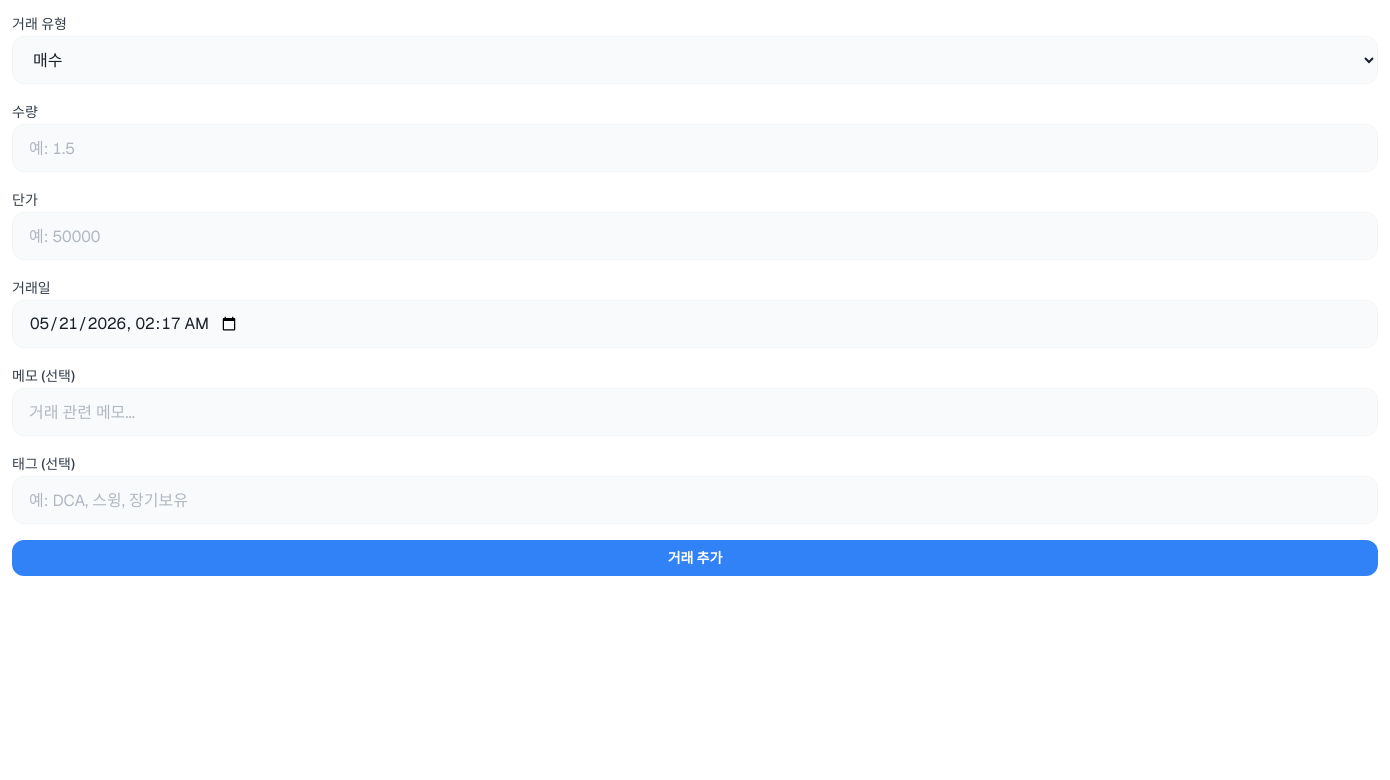
TransactionForm (create 모드 — 기본값) › 음수 또는 0 수량은 유효성 오류가 표시된다
The width and height of the screenshot is (1390, 780).
Type "0" into the field named "거래 수량" at (695, 148), box [12,124,1378,172]
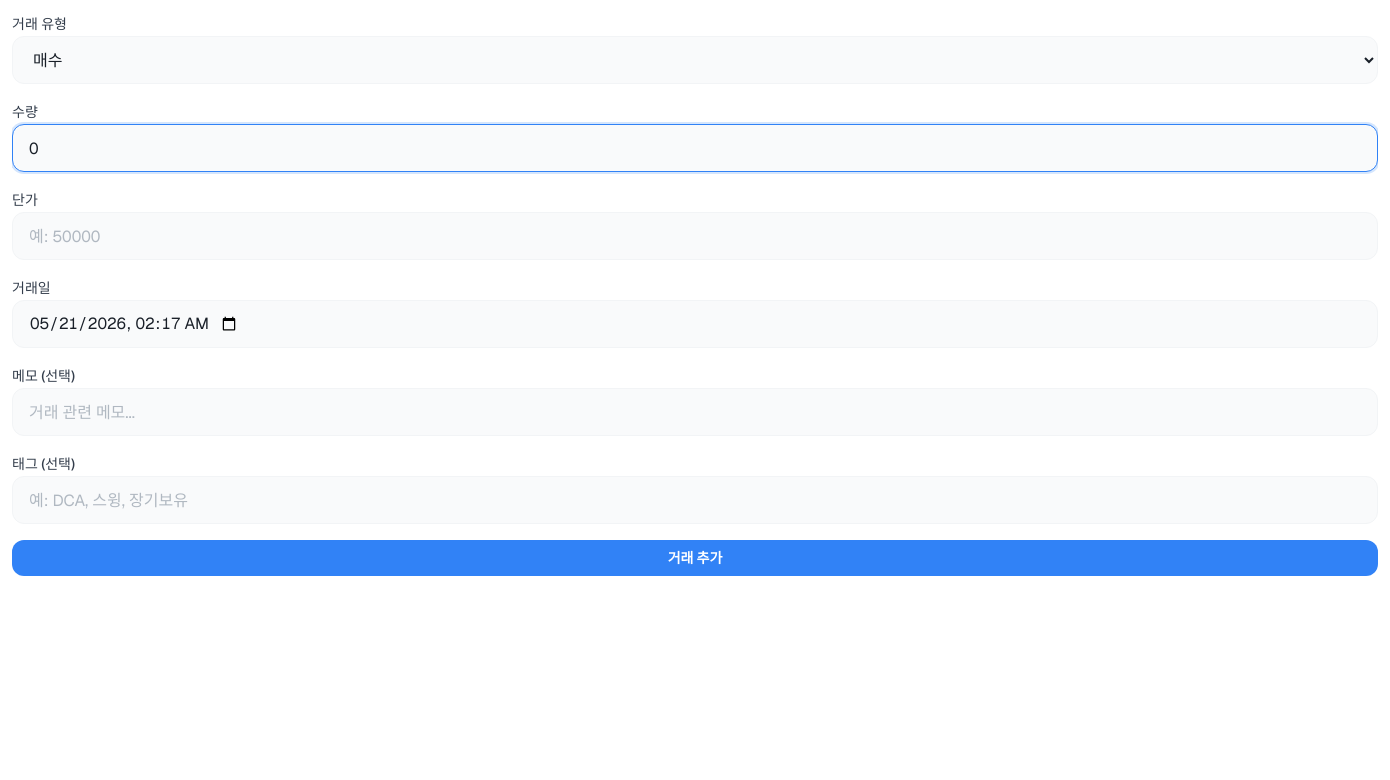
Click the button "거래 추가" at (695, 558), box [12,540,1378,576]
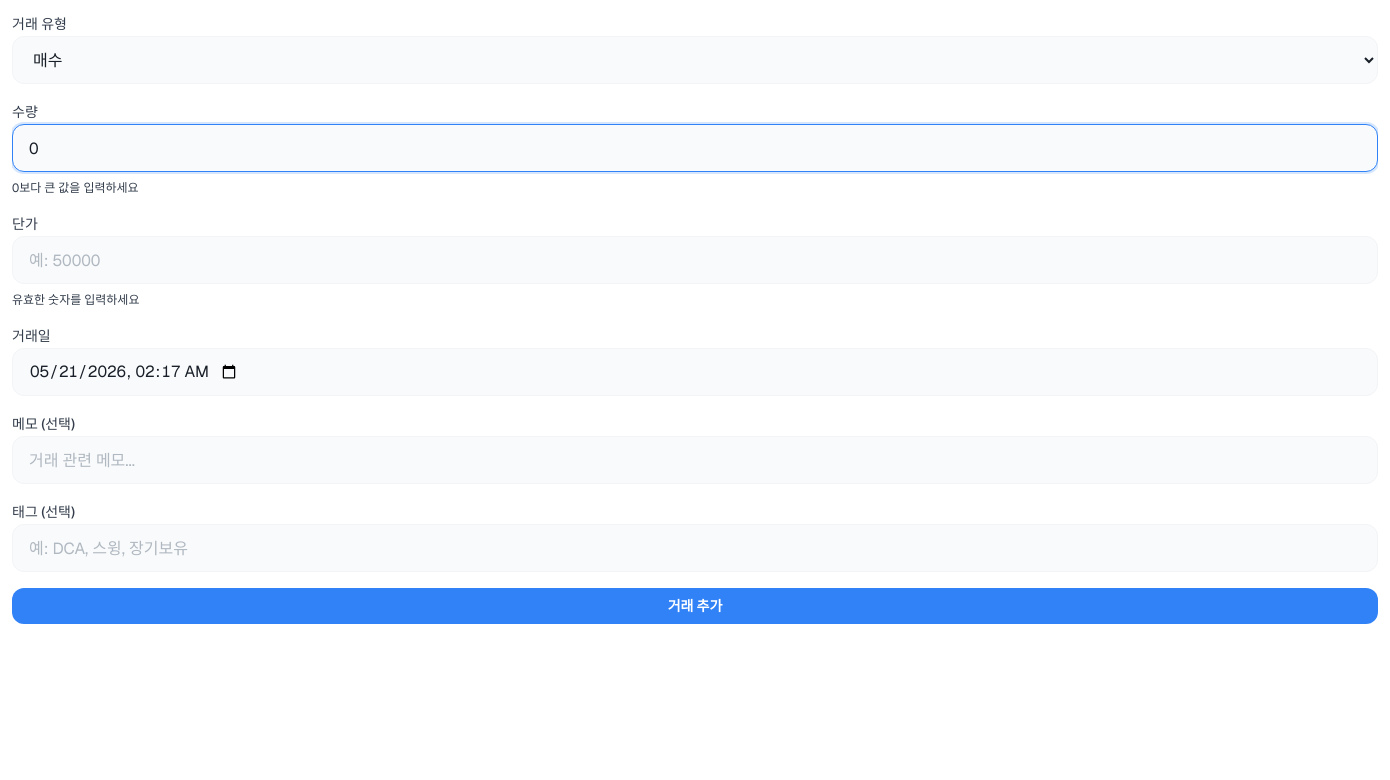
Expected: the text "0보다 큰 값을 입력하세요" is shown, [12,180,139,196]
